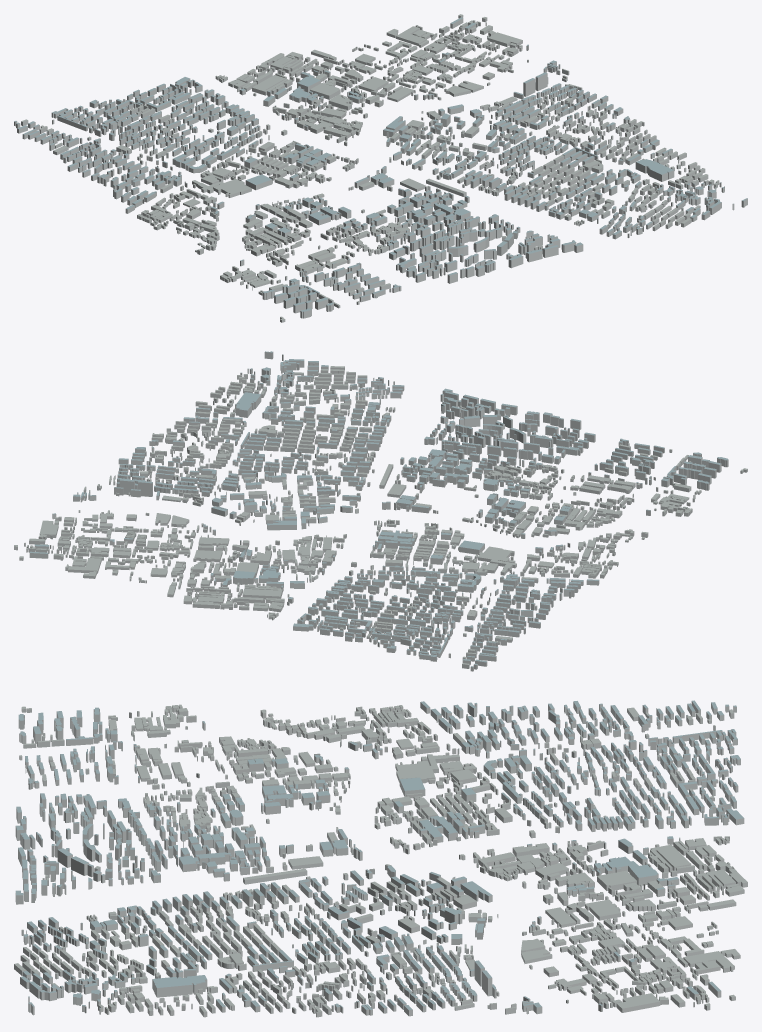
The model's file is far.glb.
The picture shows the model from 3 angles, top to bottom: view 1: azimuth 30°, elevation 25°; view 2: azimuth 150°, elevation 25°; view 3: azimuth 270°, elevation 25°; orthographic projection. The views are drawn at different scales.
Bounding box in the file's own units: 2138 × 57.6 × 2134.
